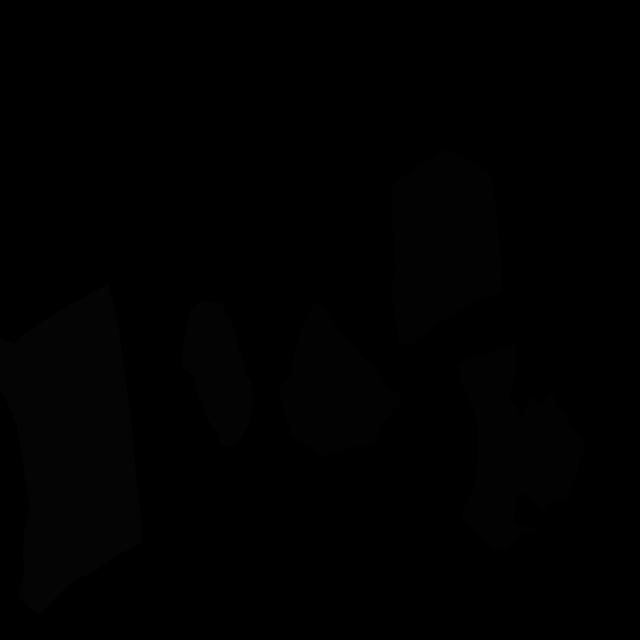cardboard: (458, 345, 586, 550), (391, 148, 503, 346), (279, 302, 402, 457)
metal: (182, 301, 253, 447)
soft_plastic: (0, 284, 143, 616)
